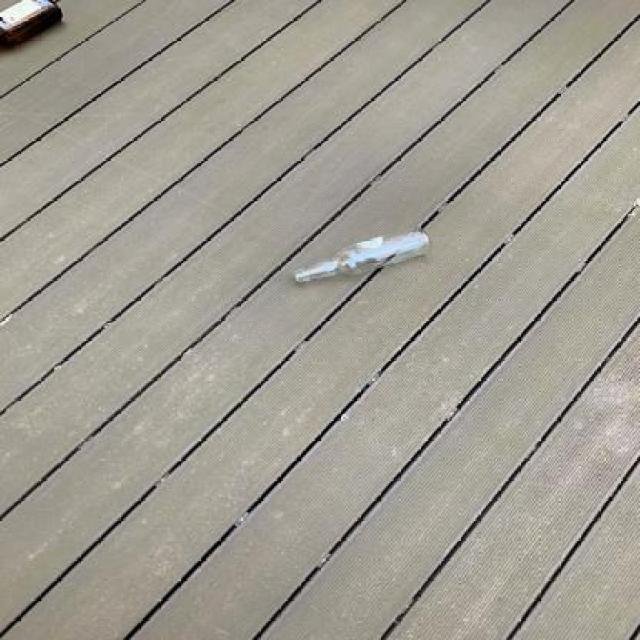trash: (283, 227, 440, 287), (0, 0, 66, 57)
